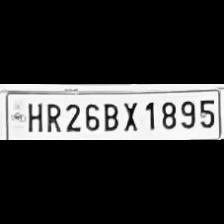1: (141, 99, 157, 131)
2: (62, 100, 82, 134)
5: (196, 96, 216, 130)
6: (82, 100, 100, 132)
8: (158, 98, 176, 130)
9: (178, 97, 196, 129)
B: (100, 100, 119, 132)
H: (24, 100, 42, 132)
R: (43, 100, 61, 134)
X: (121, 100, 141, 132)
